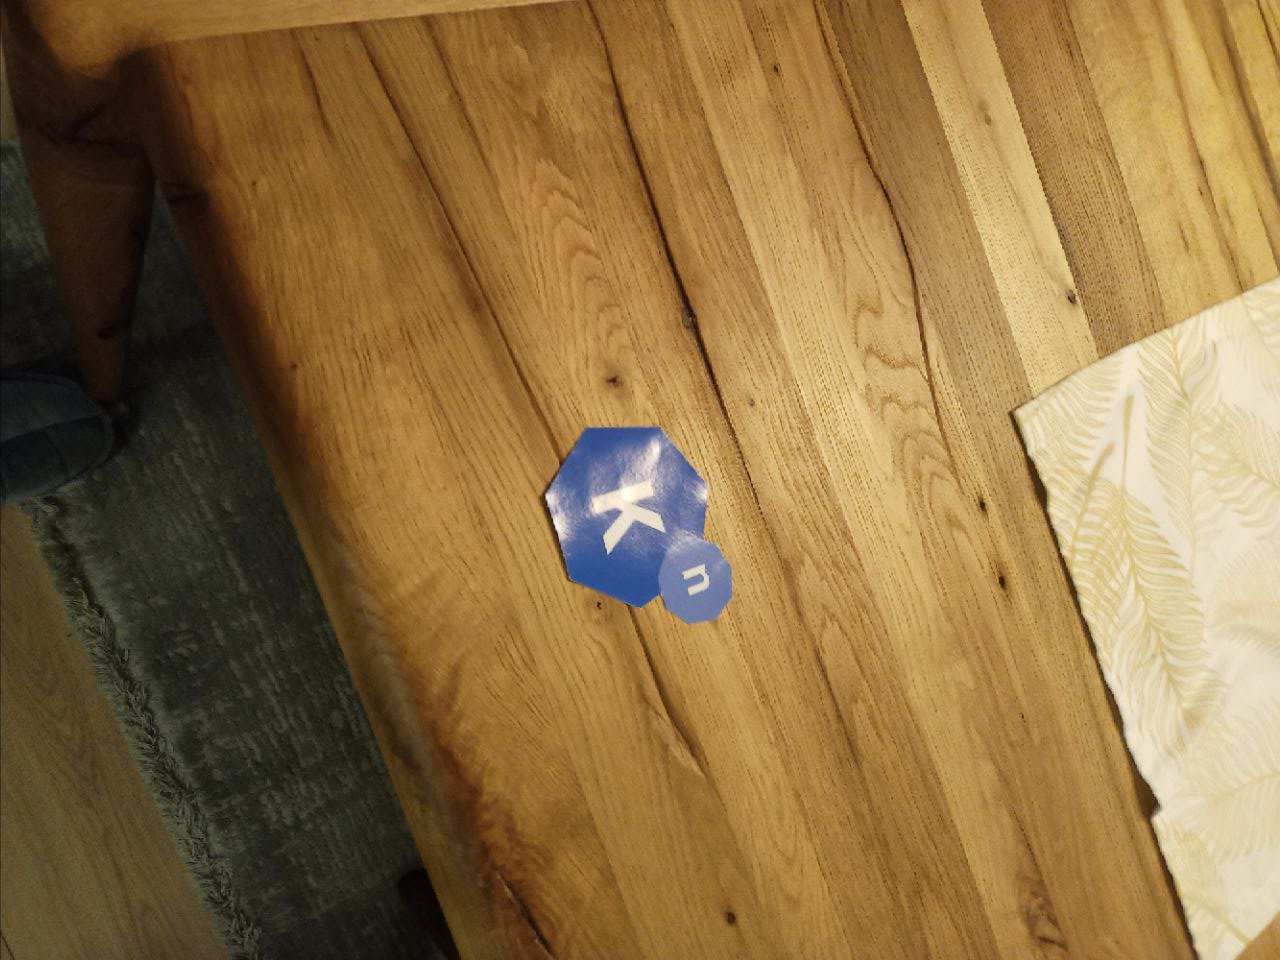knative: (541, 423, 733, 623)
